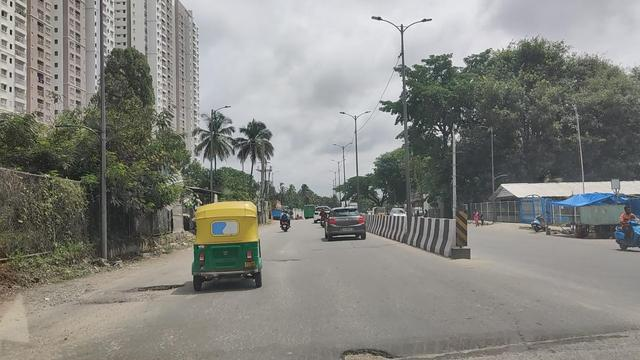LMV: (194, 200, 261, 287), (327, 209, 364, 238), (281, 209, 294, 229)
RoadDamages: (58, 289, 141, 311), (126, 279, 193, 294), (339, 341, 391, 360), (269, 253, 305, 266)
